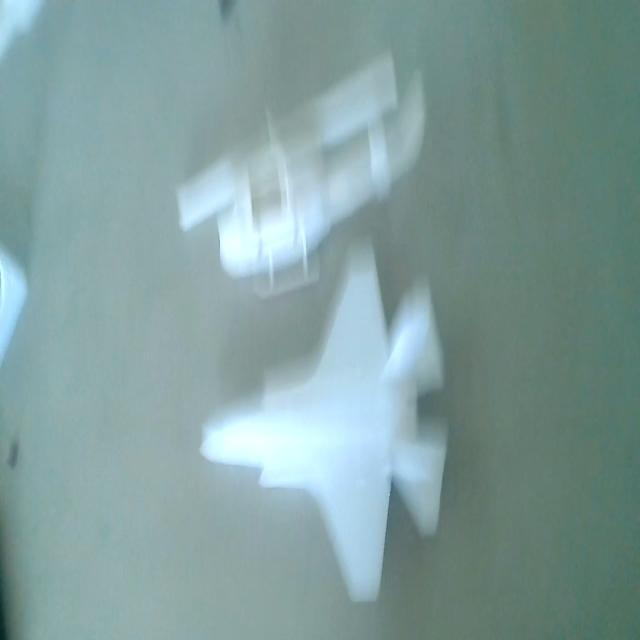Helicopter: (170, 56, 428, 296)
Jet: (200, 254, 450, 602)
